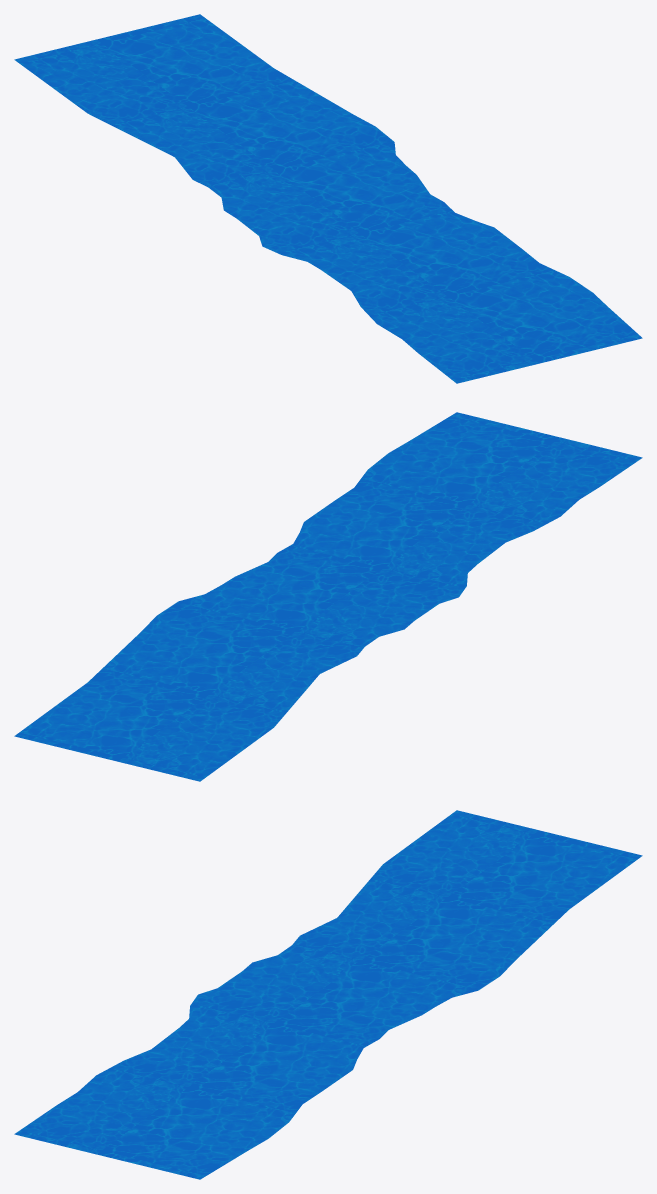
File: River2.glb
The picture shows the model from 3 angles, top to bottom: view 1: azimuth 30°, elevation 25°; view 2: azimuth 150°, elevation 25°; view 3: azimuth 330°, elevation 25°; orthographic projection.
Parts seen in each view (by area): view 1: River2; view 2: River2; view 3: River2.
Part boxes in pixels (x1=…): River2: x1=14, y1=14, x2=642, y2=383; River2: x1=14, y1=412, x2=642, y2=781; River2: x1=14, y1=810, x2=642, y2=1179.
Size of the model in its own units: 1.36 by 0 by 5.04.
Materials: 1 (1 with a texture image).
